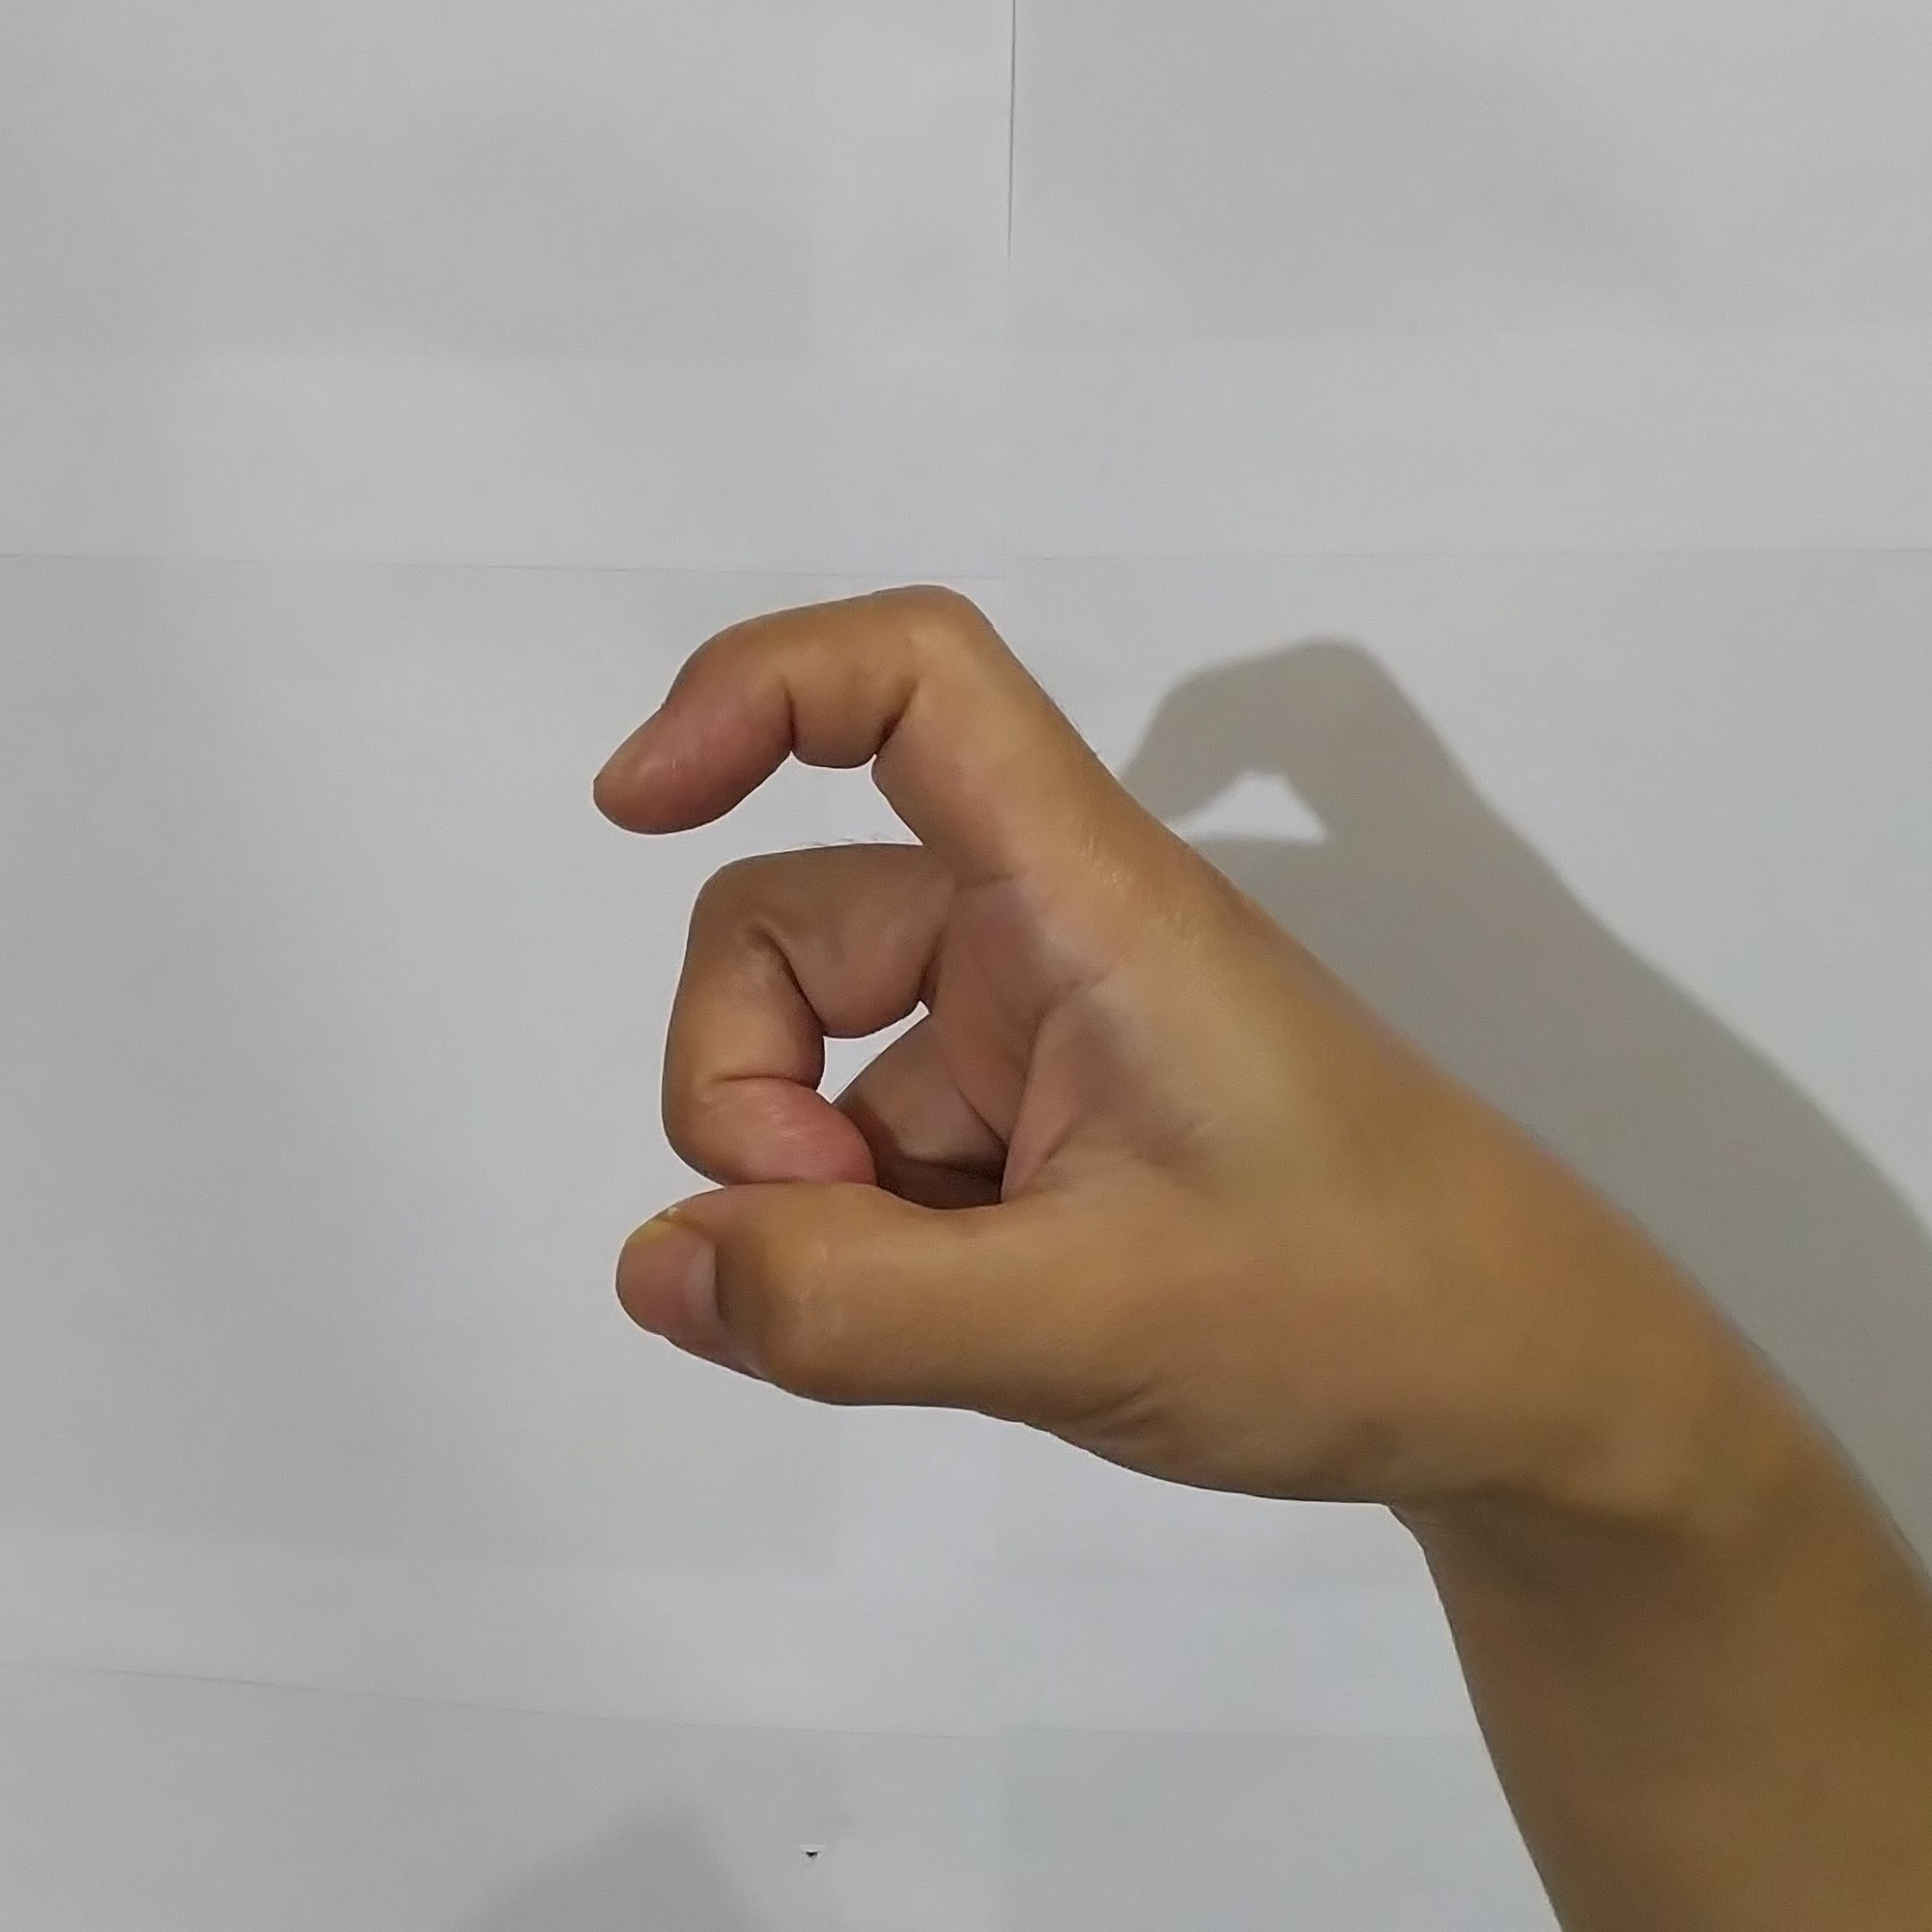X: (554, 564, 1591, 1506)
